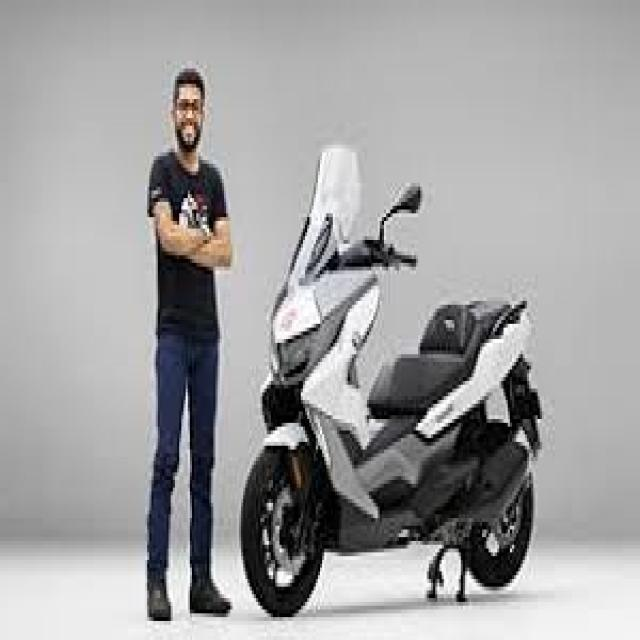bike: (240, 152, 543, 582)
